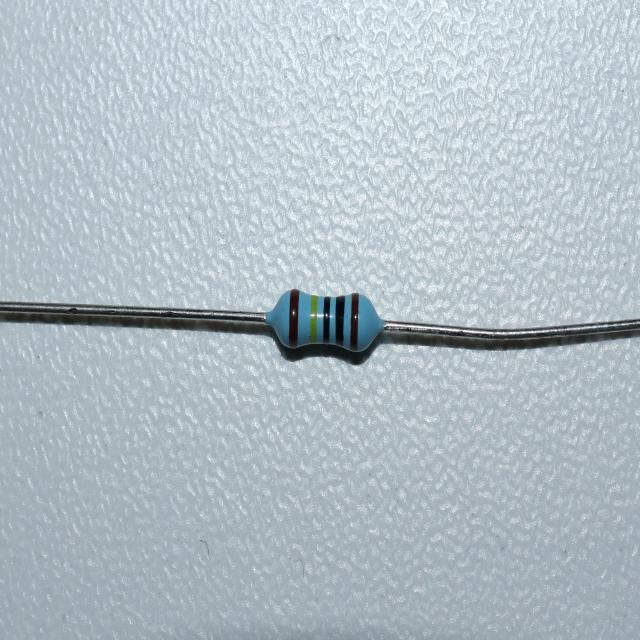resistor: (275, 285, 382, 361)
